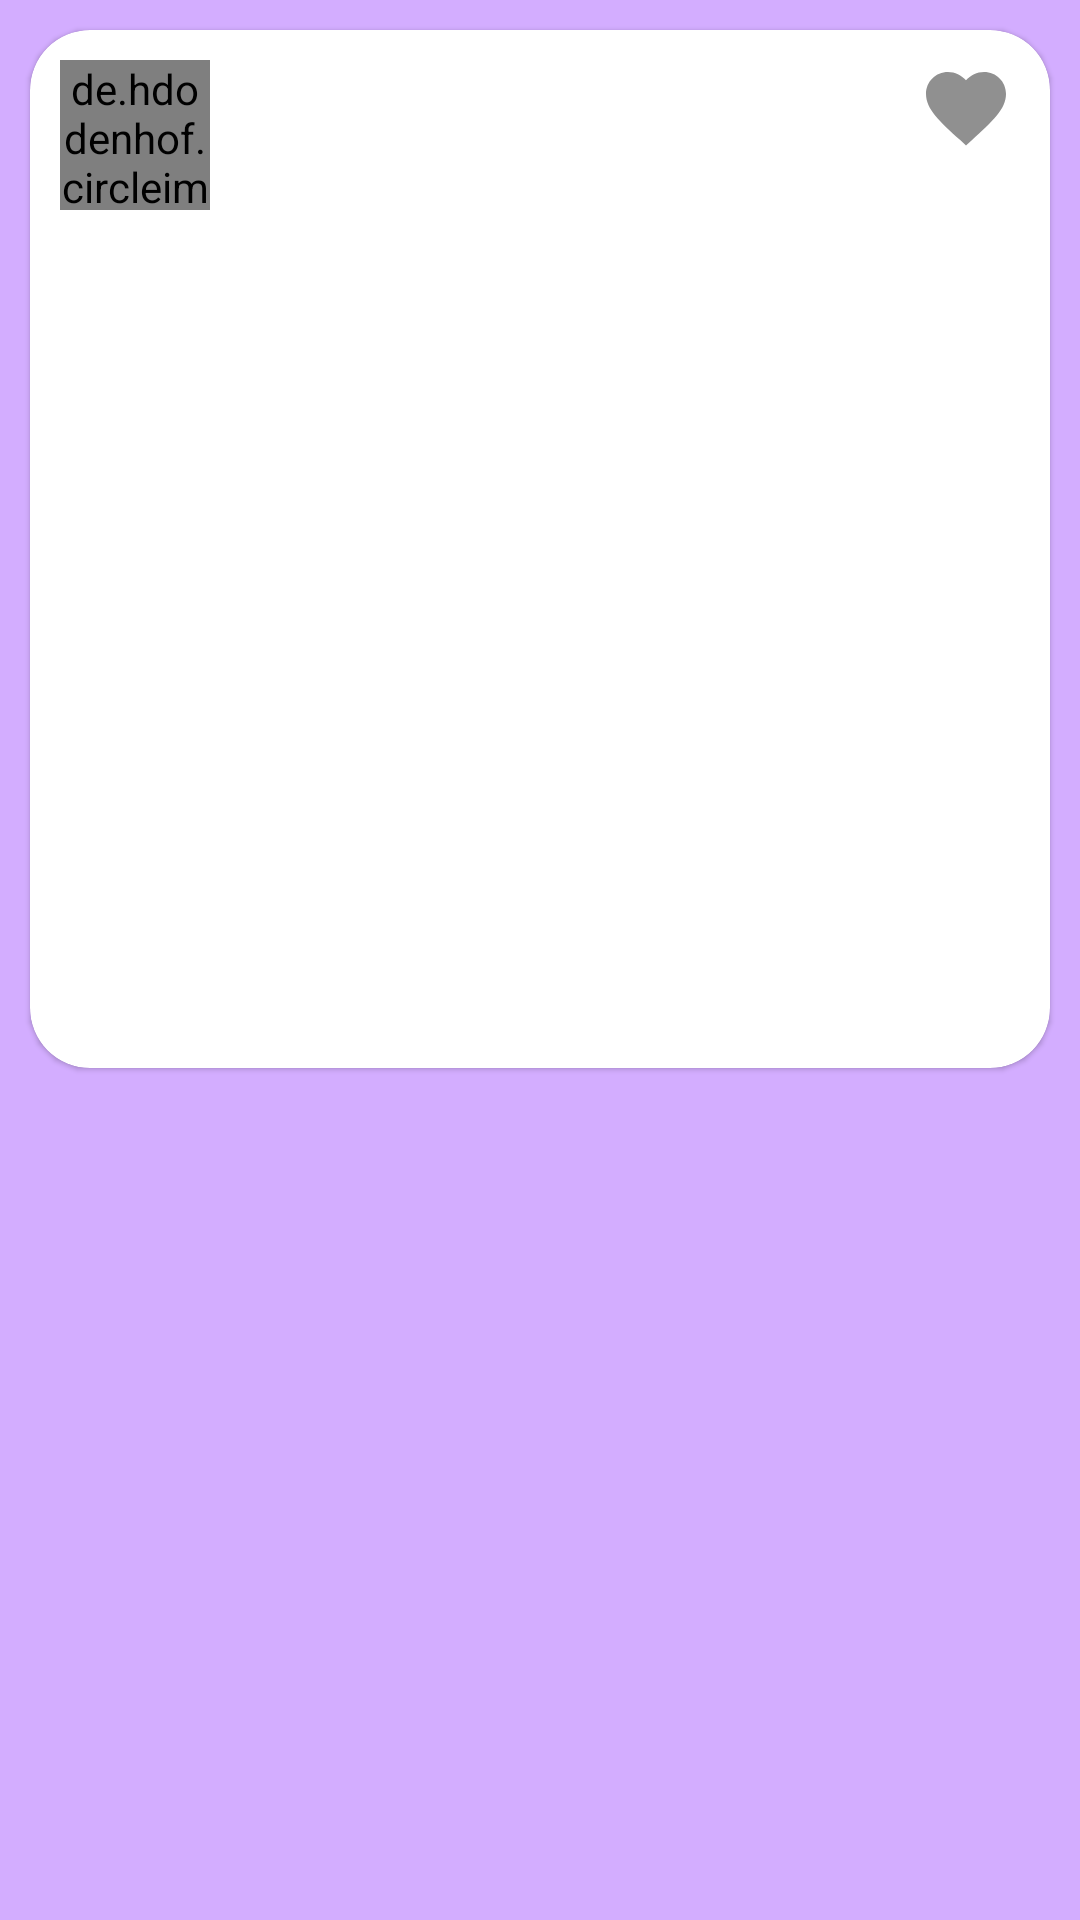

Named icons in this screenshot (1080×1920) and their centers, (x=x, y=y):
unlike fav: (x=966, y=108)
